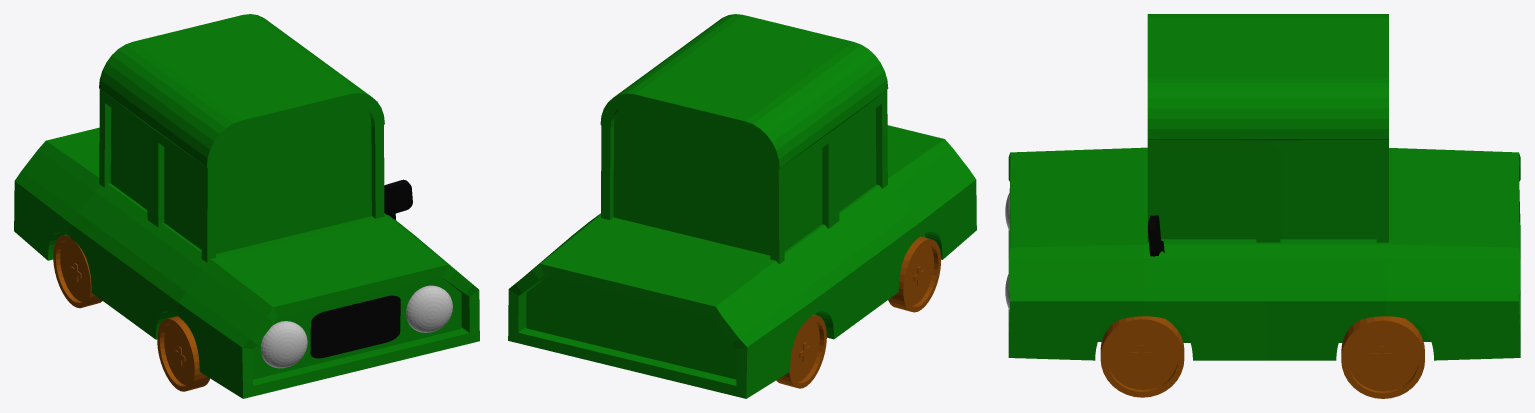
The model's file is carro.glb.
3 renders of one model, left to right at view 1: azimuth 30°, elevation 25°; view 2: azimuth 150°, elevation 25°; view 3: azimuth 270°, elevation 25°, orthographic. The views are drawn at different scales.
Visible parts, largest first — view 1: Cubo, Cube, Cilindro, Plano.001, Esfera UV, Esfera UV.001, Cubo.001; view 2: Cube, Cubo, Cilindro; view 3: Cube, Cubo, Cilindro, Cubo.001.
Part boxes in pixels (x1,y1,x2,y2): Cubo: (99,14,384,262); Cube: (14,127,479,398); Cilindro: (53,234,209,391); Plano.001: (310,295,400,358); Esfera UV: (406,285,452,332); Esfera UV.001: (260,321,307,368); Cubo.001: (384,179,412,220); Cube: (508,125,976,398); Cubo: (600,14,888,264); Cilindro: (776,236,940,388); Cube: (1008,147,1520,360); Cubo: (1147,14,1388,242); Cilindro: (1100,316,1424,398); Cubo.001: (1147,215,1164,256).
Bounding box in the file's own units: 2.4 × 2.25 × 3.74.
